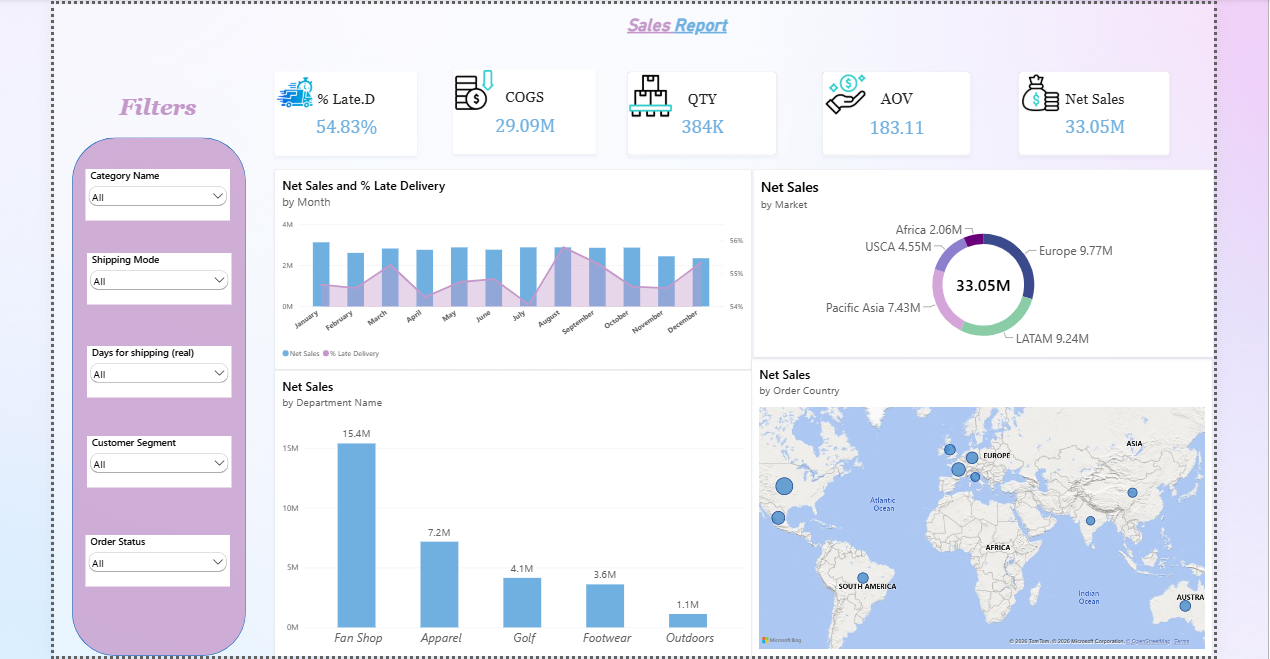

The dashboard page shown, as its layout file describes it:
{"tool":"powerbi","page":{"name":"Sales","canvas":[1920,1080],"ordinal":0},"visuals":[{"type":"lineClusteredColumnComboChart","fields":{"Category":["DataCoSupplyChainDataset.order date (DateOrders).Variation.Date Hierarchy.Year","DataCoSupplyChainDataset.order date (DateOrders).Variation.Date Hierarchy.Month"],"Y2":["All Measuers.% Late Delivery"],"Y":["All Measuers.Net Sales"]},"box":[366,273.3,790.5,331.8],"z":0},{"type":"map","fields":{"Category":["DataCoSupplyChainDataset.Order Country"],"Size":["All Measuers.Net Sales"]},"box":[1156.5,585.6,763.7,495.3],"z":1000},{"type":"lineStackedColumnComboChart","fields":{"Category":["DataCoSupplyChainDataset.Department Name"],"Y":["All Measuers.Net Sales"]},"box":[366,605.1,790.5,475.8],"z":2000},{"type":"cardVisual","title":"Profit AVG","fields":{"Data":["All Measuers.COGS"]},"box":[662.2,109.7,236.7,139.1],"z":4000},{"type":"cardVisual","title":"Profit AVG","fields":{"Data":["All Measuers.AOV"]},"box":[1272.1,112.2,246.4,139.1],"z":5000},{"type":"cardVisual","title":"Profit AVG","fields":{"Data":["All Measuers.Net Sales"]},"box":[1596.6,112.2,251.3,139.1],"z":6000},{"type":"cardVisual","title":"Profit AVG","fields":{"Data":["Sum(DataCoSupplyChainDataset.Order Item Quantity)"]},"box":[950.1,112.2,248.9,139.1],"z":7000},{"type":"textbox","box":[929.3,17.4,204.9,53.7],"z":8000},{"type":"textbox","box":[51.2,148.8,239.1,73.2],"z":9000},{"type":"shape","box":[29.3,222,287.9,858.8],"z":10000},{"type":"slicer","fields":{"Values":["DataCoSupplyChainDataset.Category Name"]},"box":[51.2,273.3,239.1,85.4],"z":11000},{"type":"slicer","fields":{"Values":["DataCoSupplyChainDataset.Shipping Mode"]},"box":[53.7,412.3,239.1,85.4],"z":12000},{"type":"slicer","fields":{"Values":["DataCoSupplyChainDataset.Days for shipping (real)"]},"box":[53.7,566,239.1,85.4],"z":13000},{"type":"slicer","fields":{"Values":["DataCoSupplyChainDataset.Customer Segment"]},"box":[53.7,714.9,239.1,85.4],"z":14000},{"type":"slicer","fields":{"Values":["DataCoSupplyChainDataset.Order Status"]},"box":[51.2,880.8,239.1,85.4],"z":15000},{"type":"image","box":[662.2,109.7,70.8,65.9],"z":16000},{"type":"image","box":[945.2,117,87.8,70.8],"z":17000},{"type":"image","box":[1272.1,117,78.1,65.9],"z":18000},{"type":"image","box":[1596.6,117,73.2,61],"z":19000},{"type":"cardVisual","title":"Profit AVG","fields":{"Data":["All Measuers.% Late Delivery"]},"box":[365.3,111.8,236.7,139.1],"z":20000},{"type":"image","box":[365.3,116.8,67.1,59.6],"z":21000},{"type":"donutChart","fields":{"Category":["DataCoSupplyChainDataset.Market"],"Y":["All Measuers.Net Sales"]},"box":[1157.9,273.3,763.7,312.3],"z":21001}]}

Visuals, with their boxes on the page's 1920x1080 design canvas (x1, y1, x2, y2). These are canvas units, not pixel positions in the 1270x659 screenshot, which may show the page scaled, cropped or inside an application window:
lineClusteredColumnComboChart - DataCoSupplyChainDataset.order date (DateOrders).Variation.Date Hierarchy.Year x DataCoSupplyChainDataset.order date (DateOrders).Variation.Date Hierarchy.Month: (left=366, top=273, right=1156, bottom=605)
map - DataCoSupplyChainDataset.Order Country x All Measuers.Net Sales: (left=1156, top=586, right=1920, bottom=1081)
lineStackedColumnComboChart - DataCoSupplyChainDataset.Department Name x All Measuers.Net Sales: (left=366, top=605, right=1156, bottom=1081)
"Profit AVG" cardVisual: (left=662, top=110, right=899, bottom=249)
"Profit AVG" cardVisual: (left=1272, top=112, right=1518, bottom=251)
"Profit AVG" cardVisual: (left=1597, top=112, right=1848, bottom=251)
"Profit AVG" cardVisual: (left=950, top=112, right=1199, bottom=251)
textbox: (left=929, top=17, right=1134, bottom=71)
textbox: (left=51, top=149, right=290, bottom=222)
shape: (left=29, top=222, right=317, bottom=1081)
slicer - DataCoSupplyChainDataset.Category Name: (left=51, top=273, right=290, bottom=359)
slicer - DataCoSupplyChainDataset.Shipping Mode: (left=54, top=412, right=293, bottom=498)
slicer - DataCoSupplyChainDataset.Days for shipping (real): (left=54, top=566, right=293, bottom=651)
slicer - DataCoSupplyChainDataset.Customer Segment: (left=54, top=715, right=293, bottom=800)
slicer - DataCoSupplyChainDataset.Order Status: (left=51, top=881, right=290, bottom=966)
image: (left=662, top=110, right=733, bottom=176)
image: (left=945, top=117, right=1033, bottom=188)
image: (left=1272, top=117, right=1350, bottom=183)
image: (left=1597, top=117, right=1670, bottom=178)
"Profit AVG" cardVisual: (left=365, top=112, right=602, bottom=251)
image: (left=365, top=117, right=432, bottom=176)
donutChart - DataCoSupplyChainDataset.Market x All Measuers.Net Sales: (left=1158, top=273, right=1922, bottom=586)
